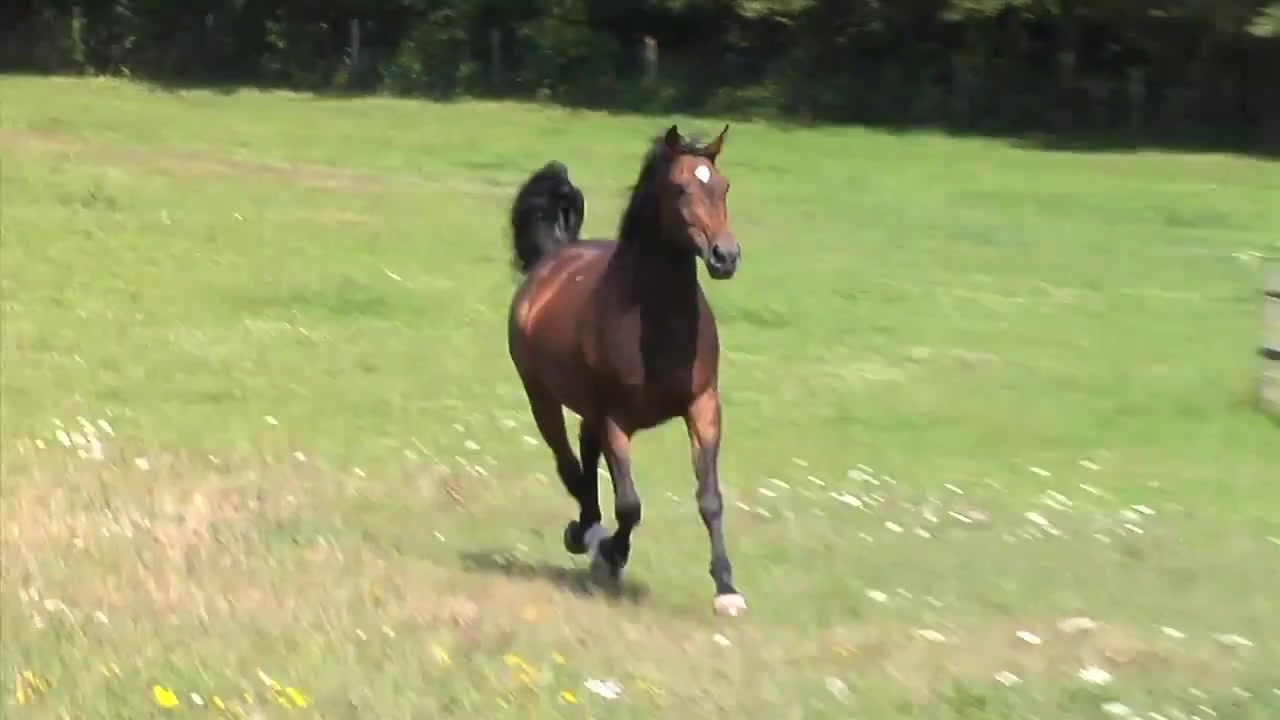horse: (510, 124, 750, 619)
